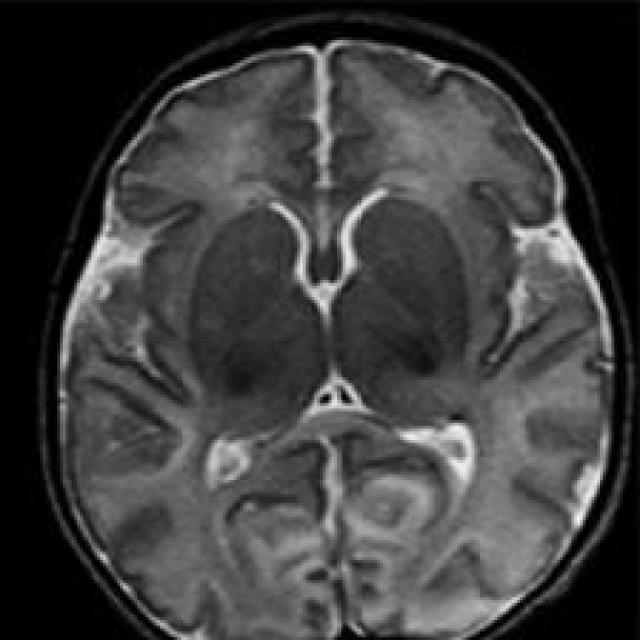no_tumor: (37, 22, 640, 640)
